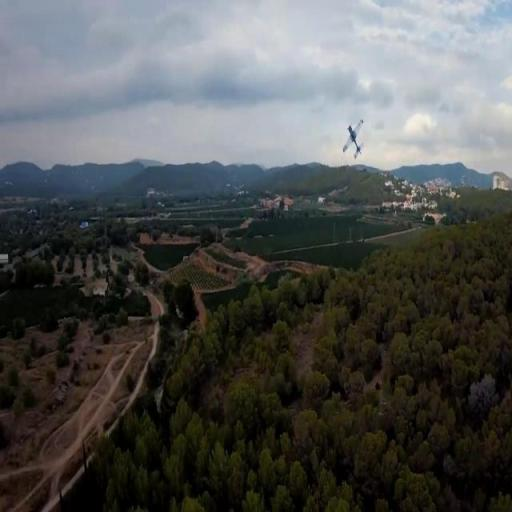uav: (343, 120, 365, 158)
